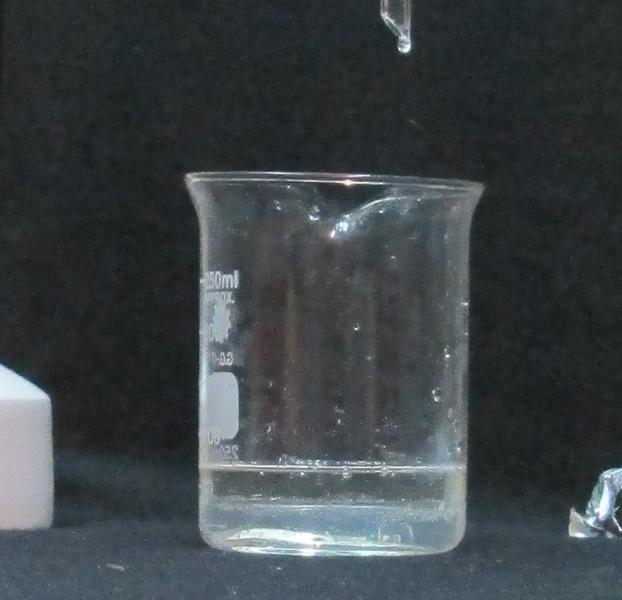Beaker: (180, 160, 476, 564)
